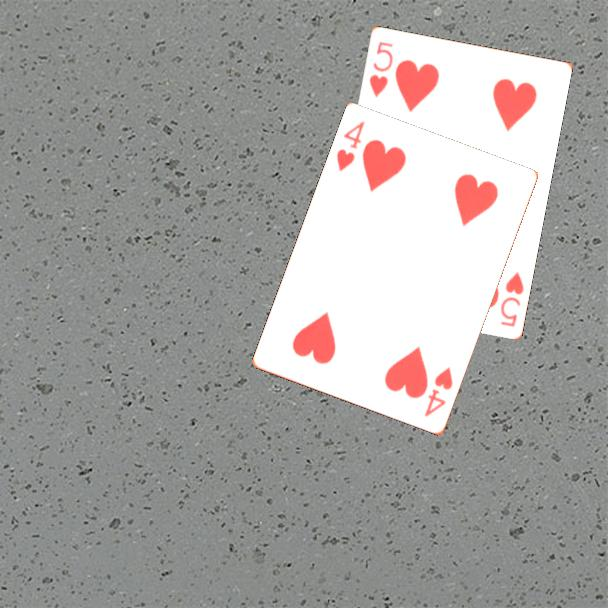h04: (333, 118, 368, 175), (421, 364, 456, 420)
h05: (366, 38, 396, 100), (497, 268, 527, 329)
